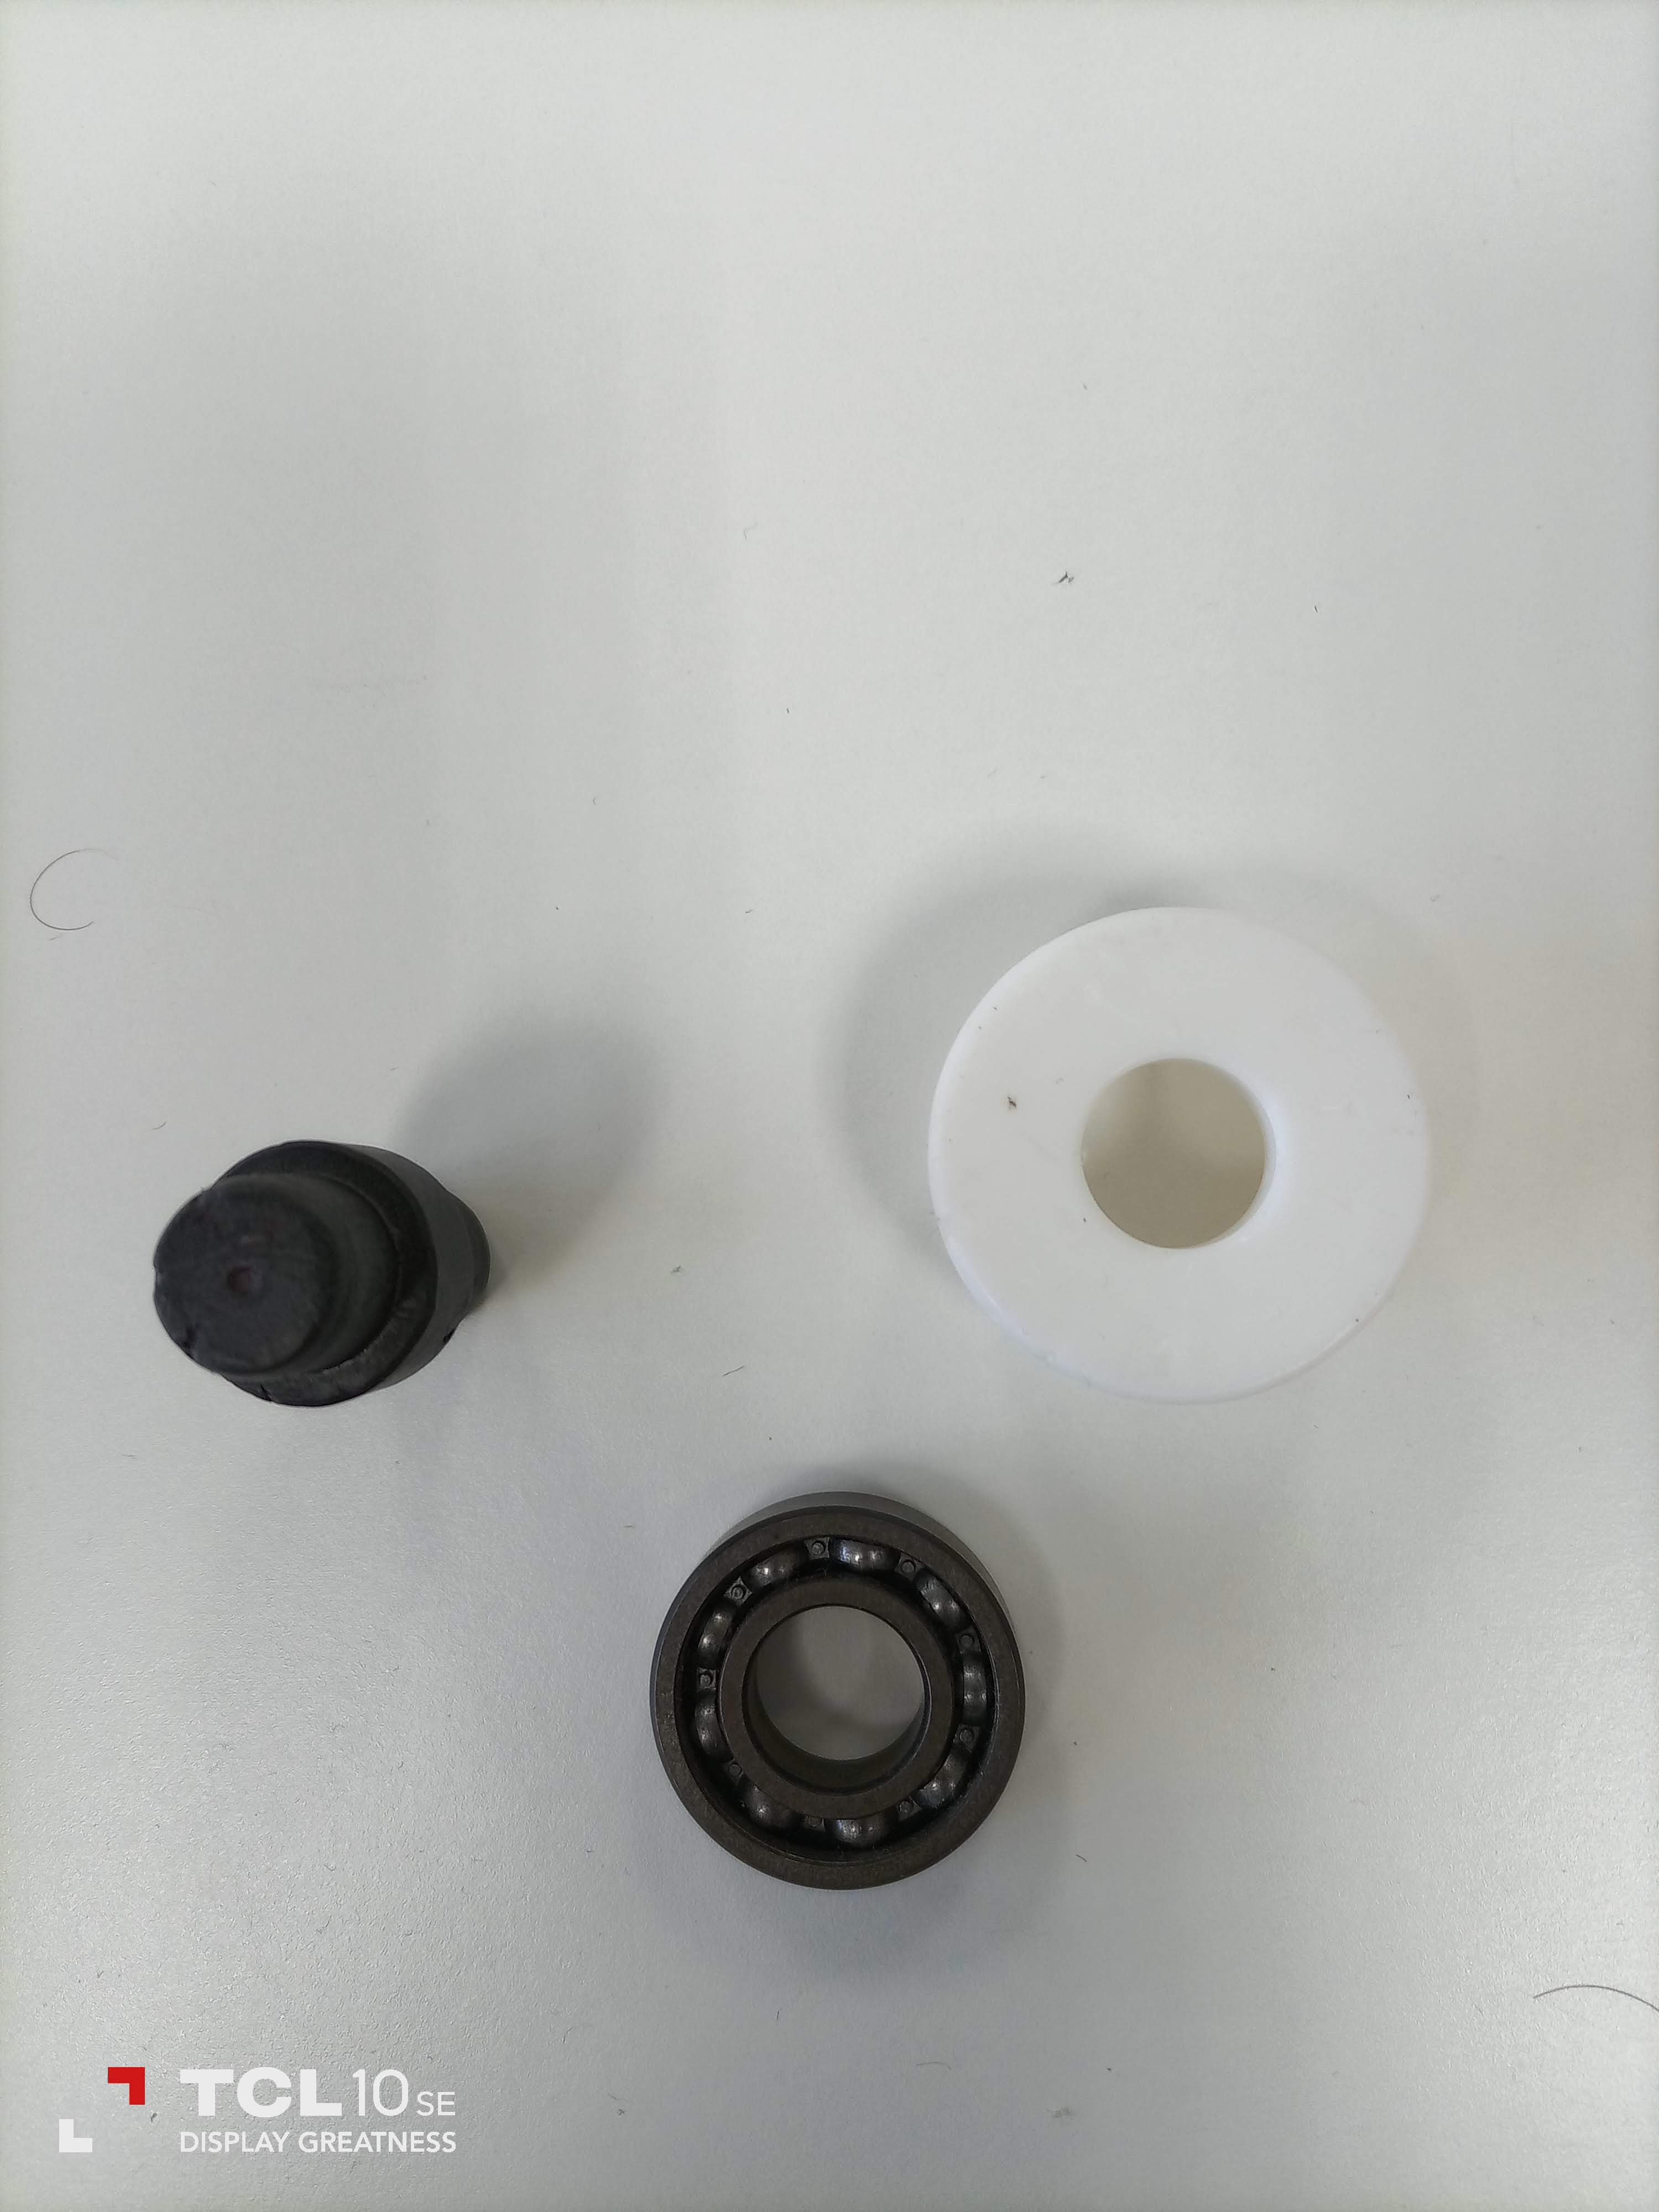Roda: (648, 1486, 1032, 1898), (152, 1139, 505, 1413)
Tapa: (918, 907, 1441, 1413)
